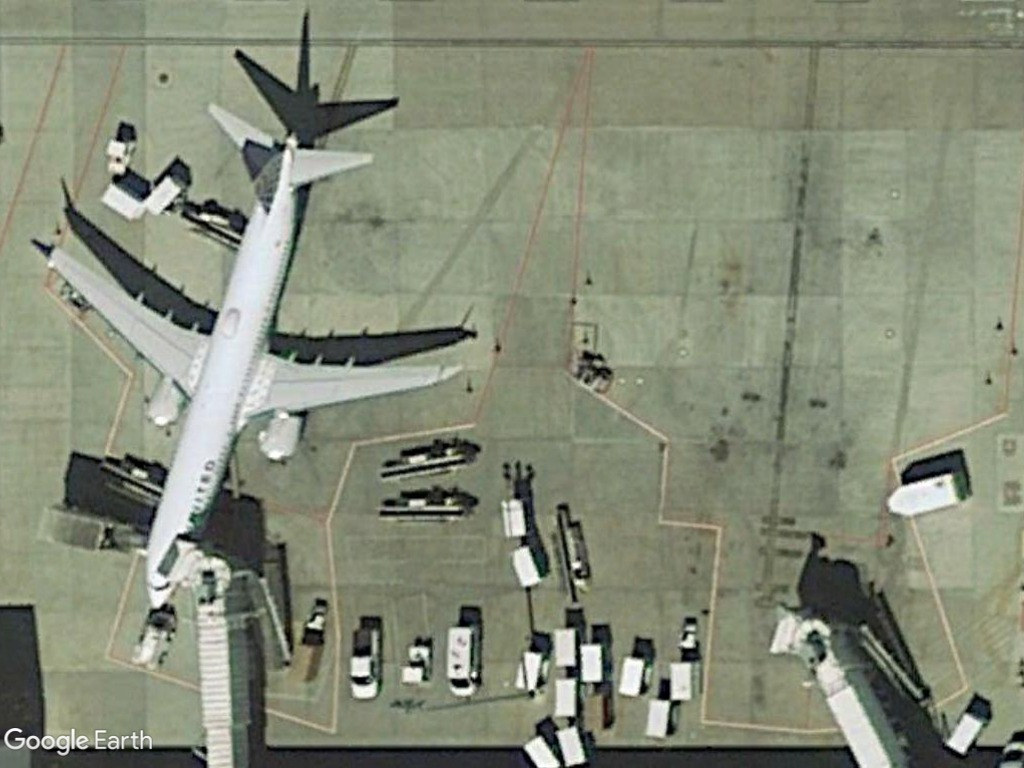airliner: (27, 101, 464, 616)
other: (348, 624, 387, 706)
van: (441, 618, 487, 701)
